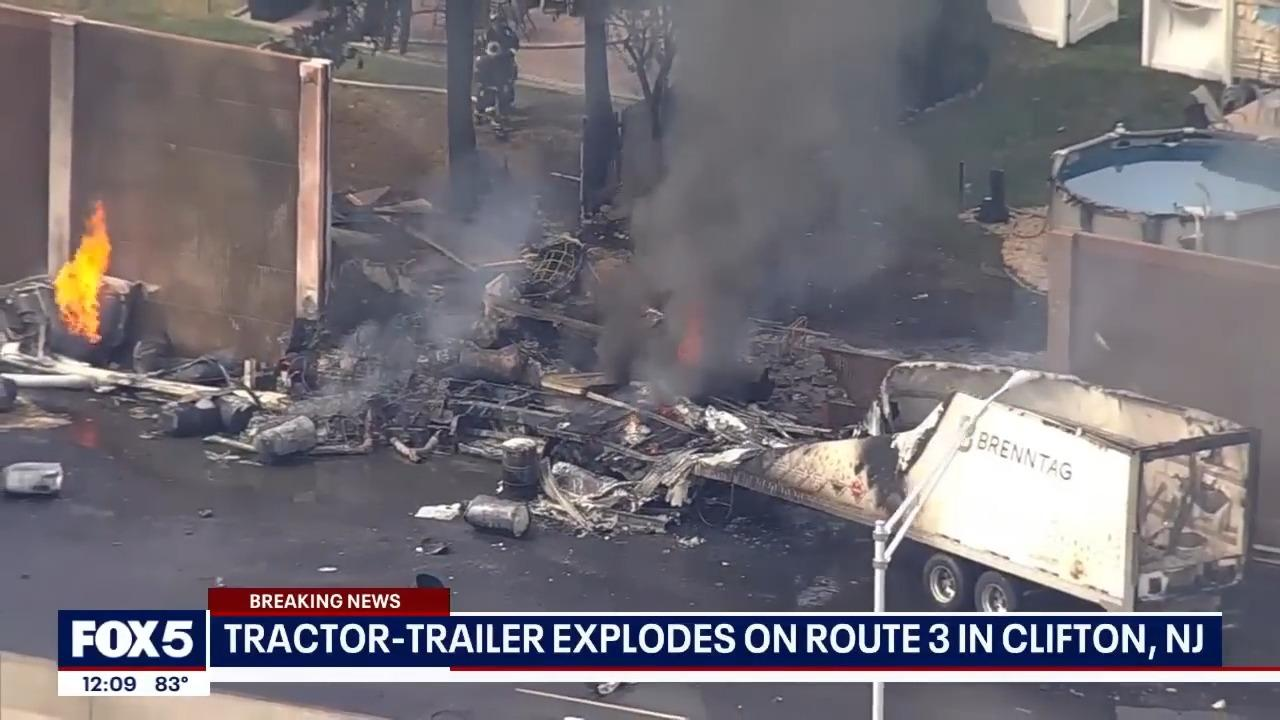fire: (50, 190, 118, 343)
